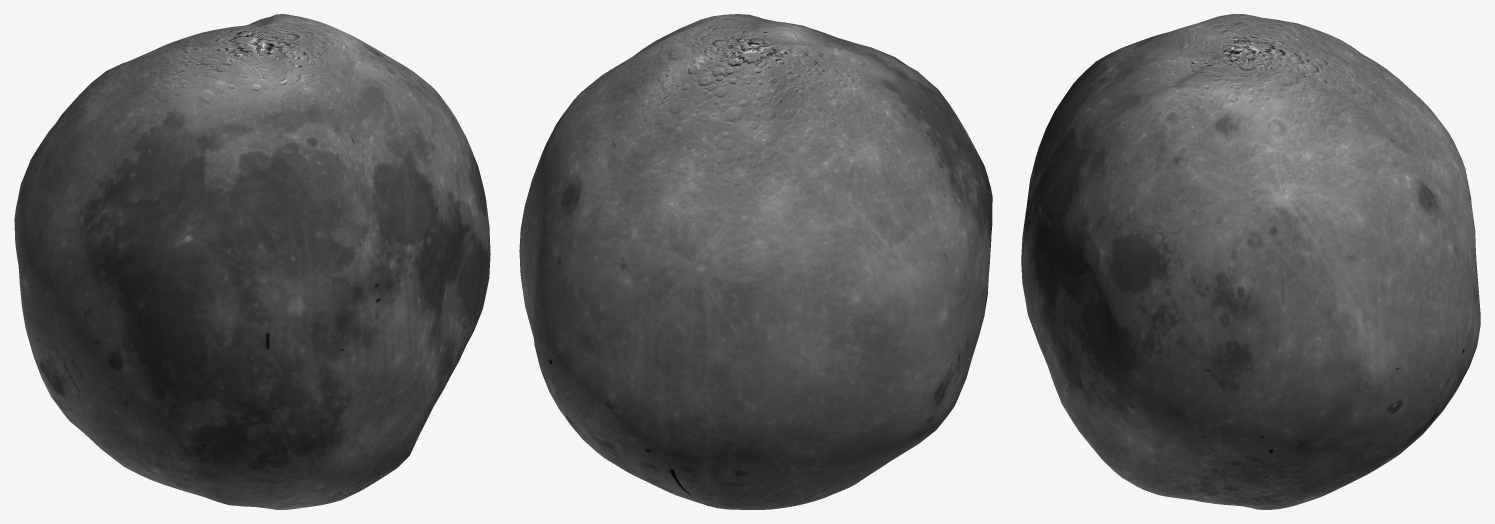
The model's file is stone.FBX.
3 views of the same model, side by side, from view 1: azimuth 30°, elevation 25°; view 2: azimuth 150°, elevation 25°; view 3: azimuth 270°, elevation 25° (orthographic).
Parts seen in each view (by area): view 1: Sphere001; view 2: Sphere001; view 3: Sphere001.
Part boxes in pixels (x1,y1,x2,y2): Sphere001: (14, 14, 490, 509); Sphere001: (519, 14, 992, 509); Sphere001: (1021, 14, 1480, 509).
Size of the model in its own units: 39.66 by 40 by 38.05.
